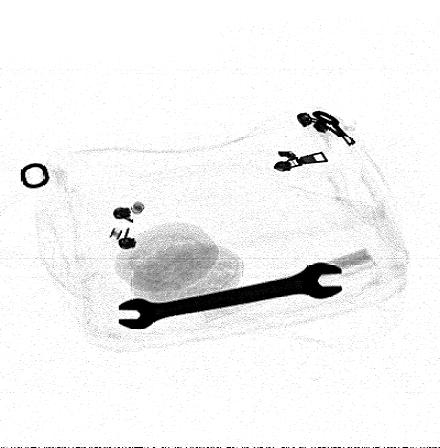Wrench: (115, 261, 346, 332)
